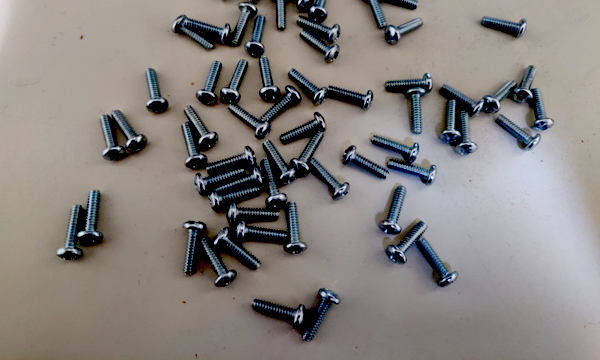shortscrew: (213, 227, 262, 271), (303, 289, 341, 343), (418, 238, 458, 288), (200, 236, 237, 288), (387, 221, 430, 265), (496, 114, 542, 152), (262, 139, 299, 185), (309, 159, 350, 200), (342, 147, 391, 181), (251, 299, 306, 329), (290, 129, 325, 176), (56, 204, 84, 262), (288, 68, 329, 107), (183, 106, 219, 150), (229, 104, 272, 140), (280, 112, 328, 144), (440, 84, 486, 117), (261, 85, 302, 122), (172, 15, 214, 51), (112, 110, 147, 153), (370, 135, 420, 165), (195, 166, 246, 195), (77, 190, 104, 244), (300, 29, 340, 65), (387, 159, 438, 187), (209, 184, 260, 212), (214, 166, 265, 194), (206, 146, 256, 174), (379, 187, 408, 235), (261, 158, 288, 208), (227, 201, 280, 226), (220, 59, 249, 104), (99, 114, 126, 161), (296, 16, 341, 44), (236, 219, 288, 243), (183, 221, 206, 275), (230, 2, 258, 46), (182, 122, 208, 169), (327, 84, 374, 110), (285, 201, 308, 254), (145, 68, 170, 114), (185, 19, 231, 44), (196, 61, 222, 105), (510, 65, 539, 104), (483, 79, 516, 113), (384, 18, 424, 46), (481, 15, 527, 39), (530, 88, 555, 132), (405, 87, 426, 135), (385, 73, 434, 93), (456, 112, 478, 156), (439, 100, 461, 143), (259, 57, 280, 101), (245, 15, 266, 57), (362, 0, 388, 28), (270, 0, 290, 32), (309, 0, 331, 24), (376, 0, 420, 11), (278, 0, 315, 12), (217, 0, 258, 2), (244, 0, 278, 2)
